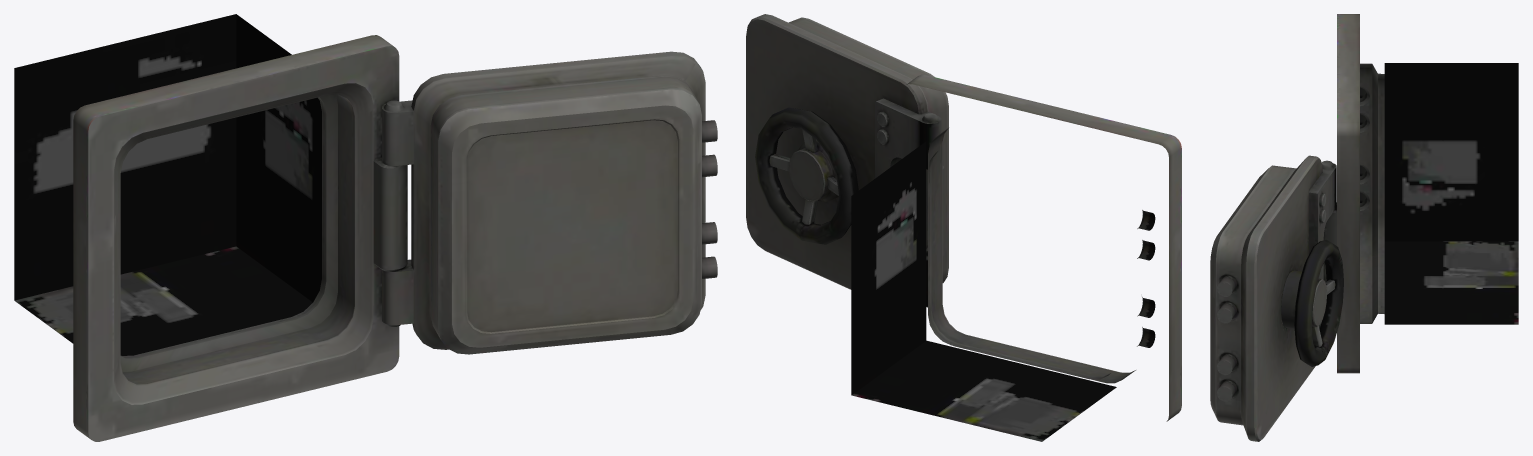
The picture shows the model from 3 angles, left to right: view 1: azimuth 30°, elevation 25°; view 2: azimuth 150°, elevation 25°; view 3: azimuth 270°, elevation 25°; orthographic projection. The views are drawn at different scales.
Parts seen in each view (by area): view 1: body0_model0_lod0_mesh0; view 2: body0_model0_lod0_mesh0; view 3: body0_model0_lod0_mesh0.
Boxes of the visible parts, x1,y1,x2,y2 form: body0_model0_lod0_mesh0: [14, 14, 717, 441]; body0_model0_lod0_mesh0: [746, 14, 1181, 441]; body0_model0_lod0_mesh0: [1210, 14, 1518, 441].
Bounding box in the file's own units: 102 × 56.27 × 62.97.
Materials: 1 (1 with a texture image).
